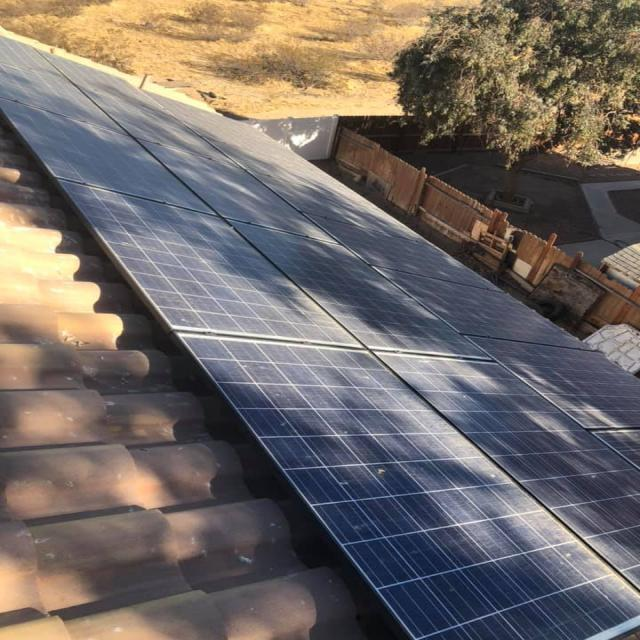dust-solar-panel: (0, 28, 640, 640)
